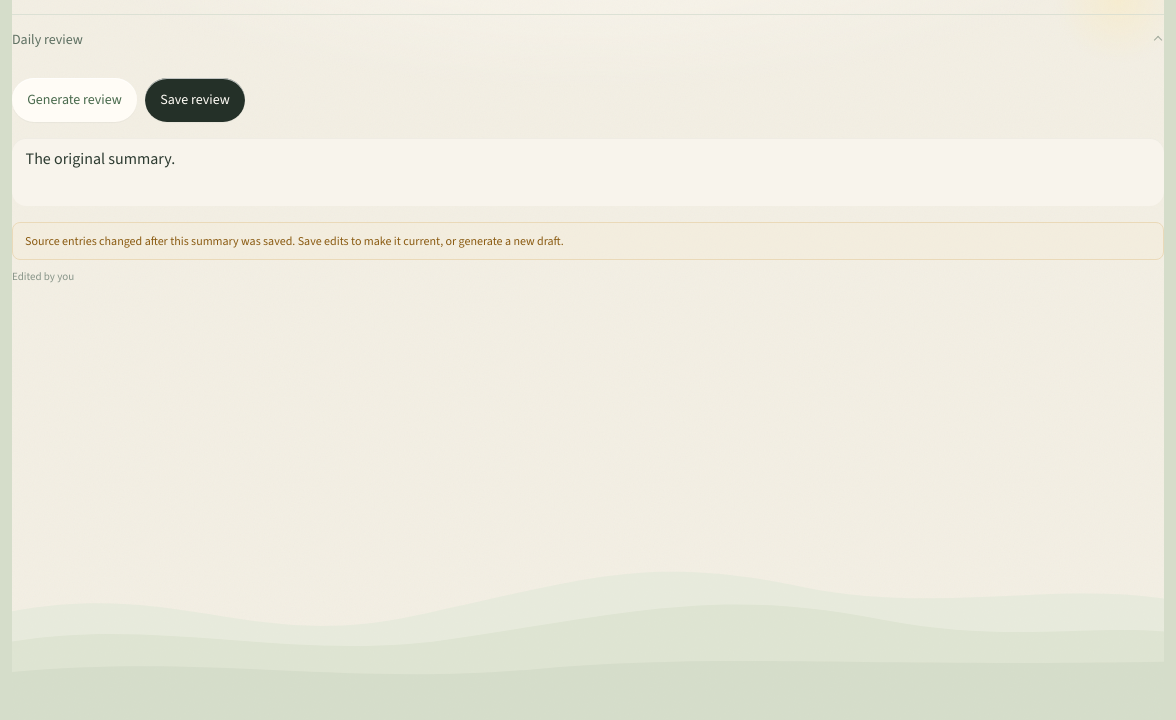
Test: DailySummaryCard › marks changed source material and clears the warning after save
The width and height of the screenshot is (1176, 720).
Expected: the text "Source entries changed" is shown, [25,232,564,248]
Click the button "Save review": (195, 100) [145,78,245,122]
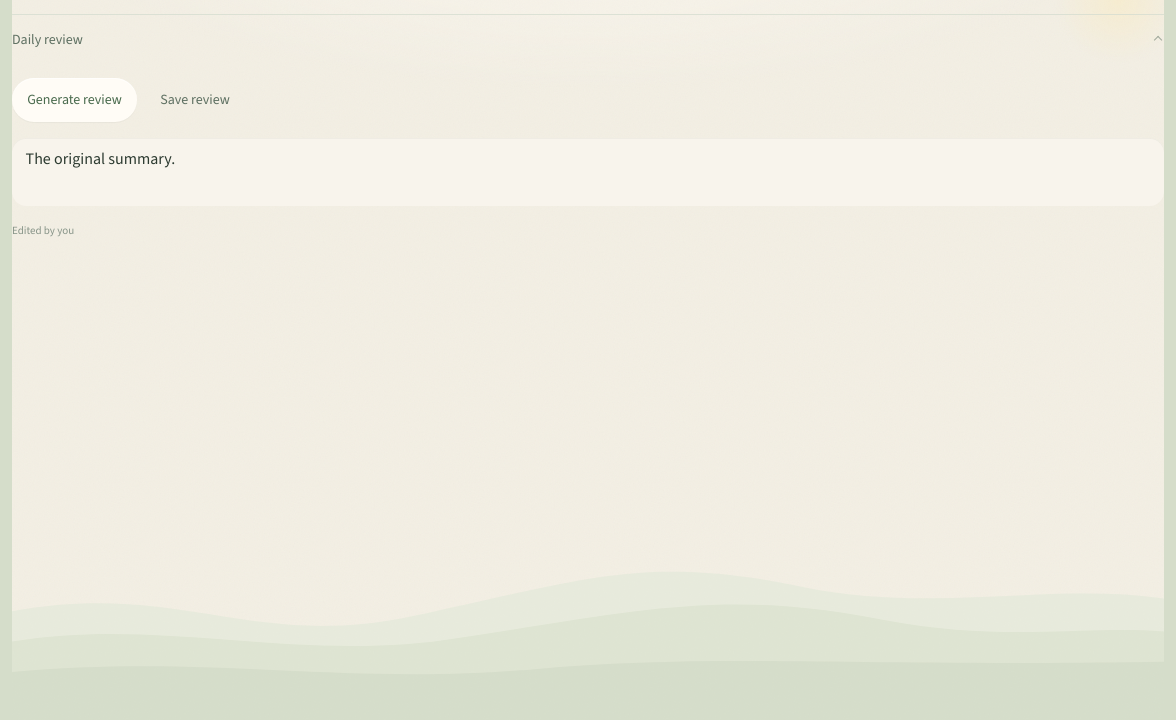
Expected: the text "Source entries changed" is gone
